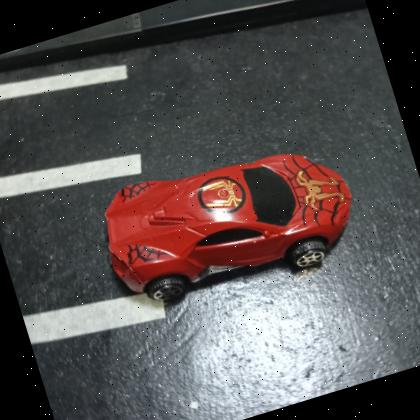Car: (83, 118, 372, 324)
